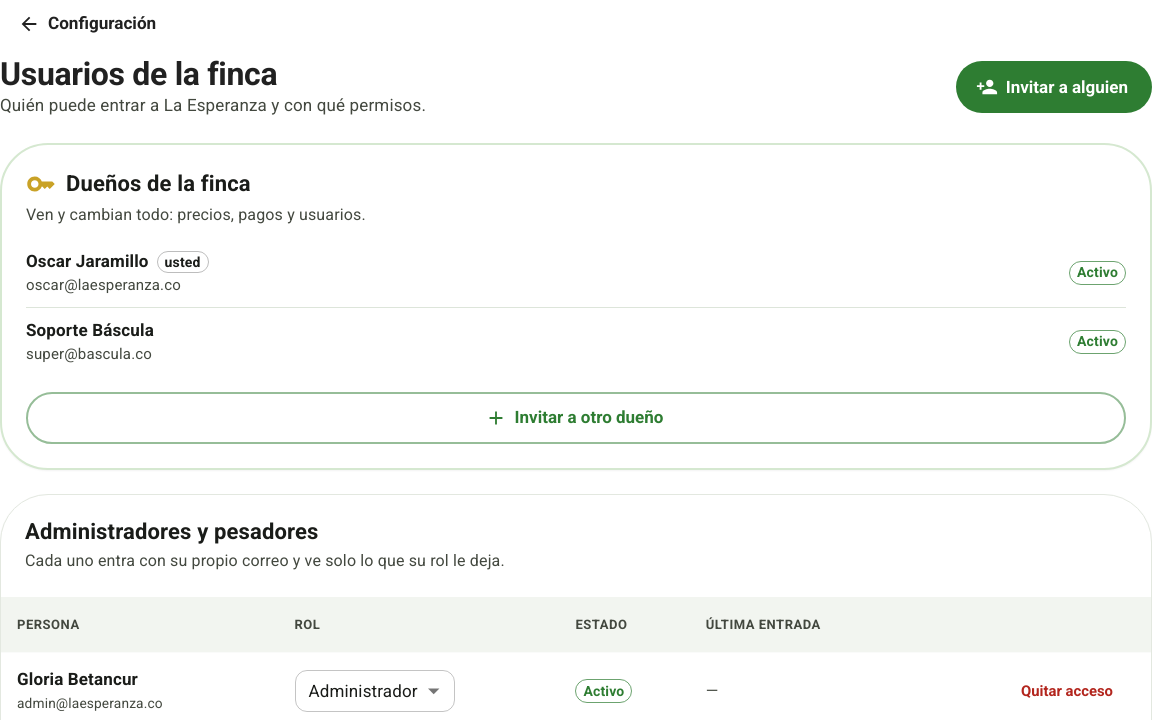
Test: what the server sends back › says something went wrong when the invitation's answer cannot be read
Check: the text "Gloria Betancur" is shown, box x1=17 y1=669 x2=138 y2=689
Click the button "Invitar a alguien". click: (1054, 87)
box: x1=956 y1=61 x2=1151 y2=113
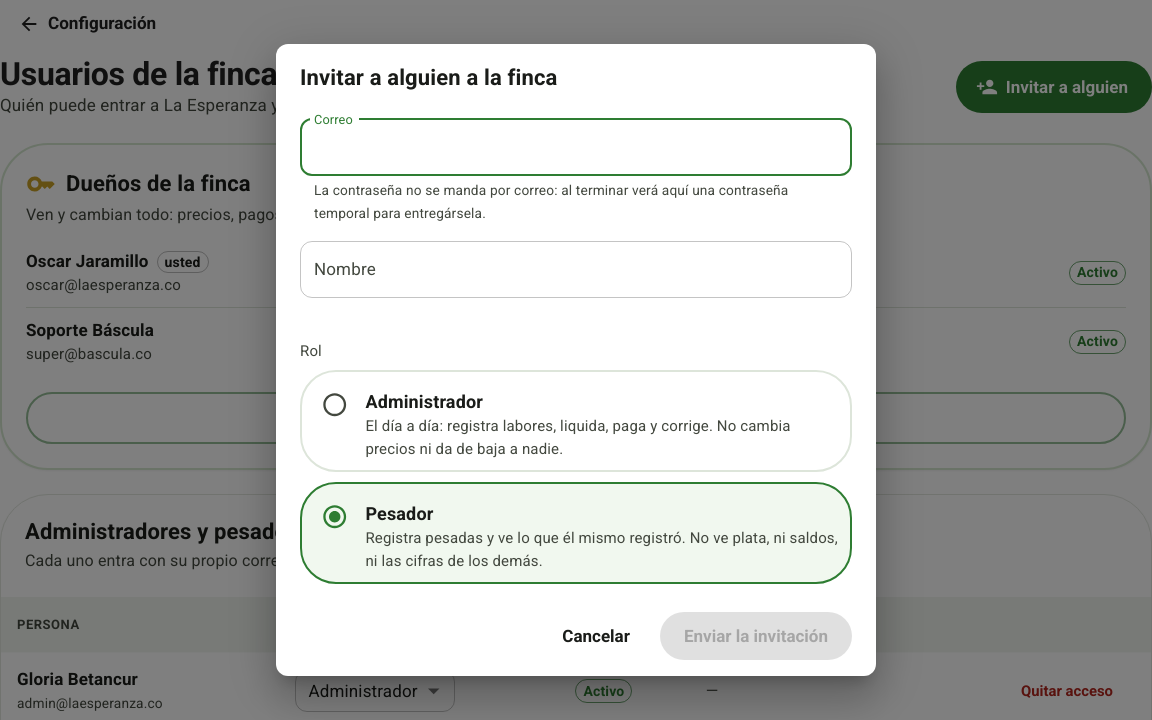
Type "rota@laesperanza.co" into the field labelled "Correo". click: (576, 148)
box: x1=300 y1=119 x2=852 y2=176
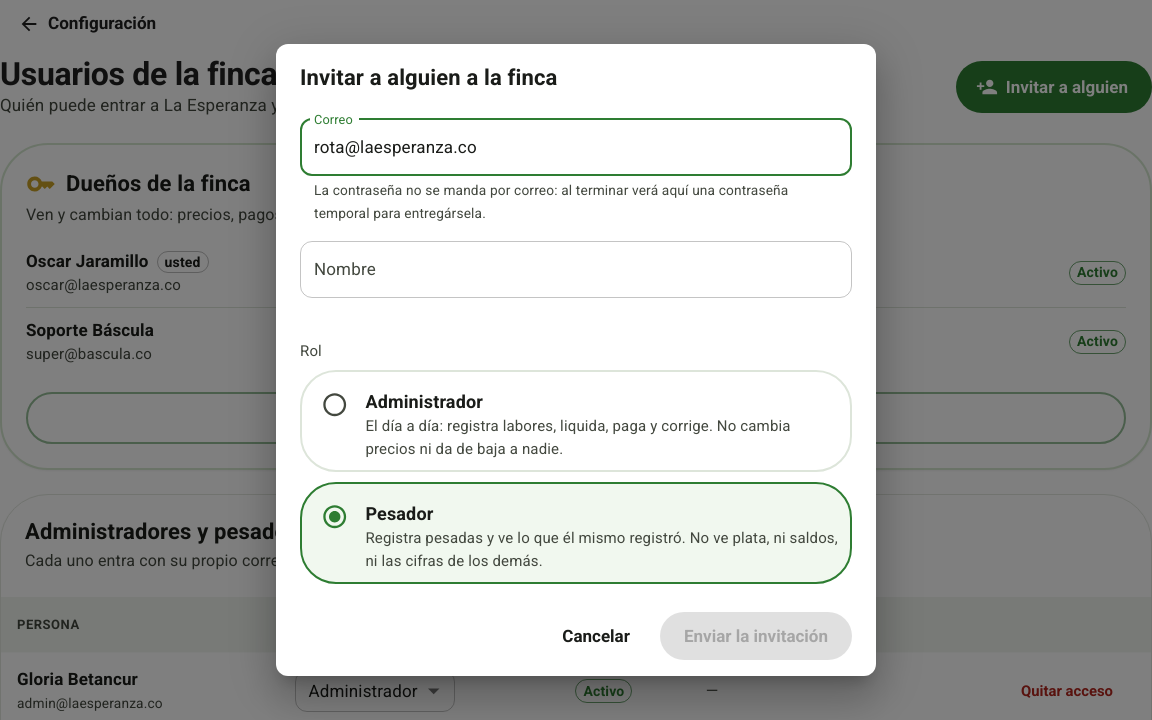
Type "Respuesta Rota" into the field labelled "Nombre". click: (576, 269)
box: x1=300 y1=241 x2=852 y2=298
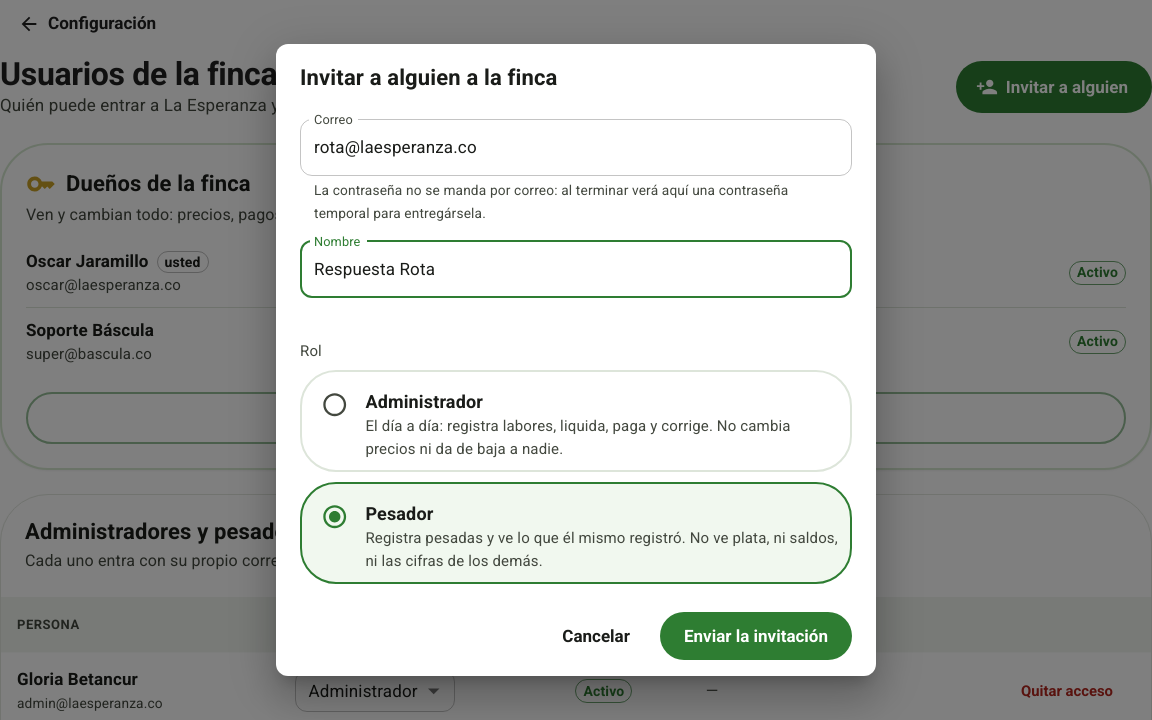
Click the button "Enviar la invitación". click: (756, 636)
box: x1=660 y1=612 x2=852 y2=660
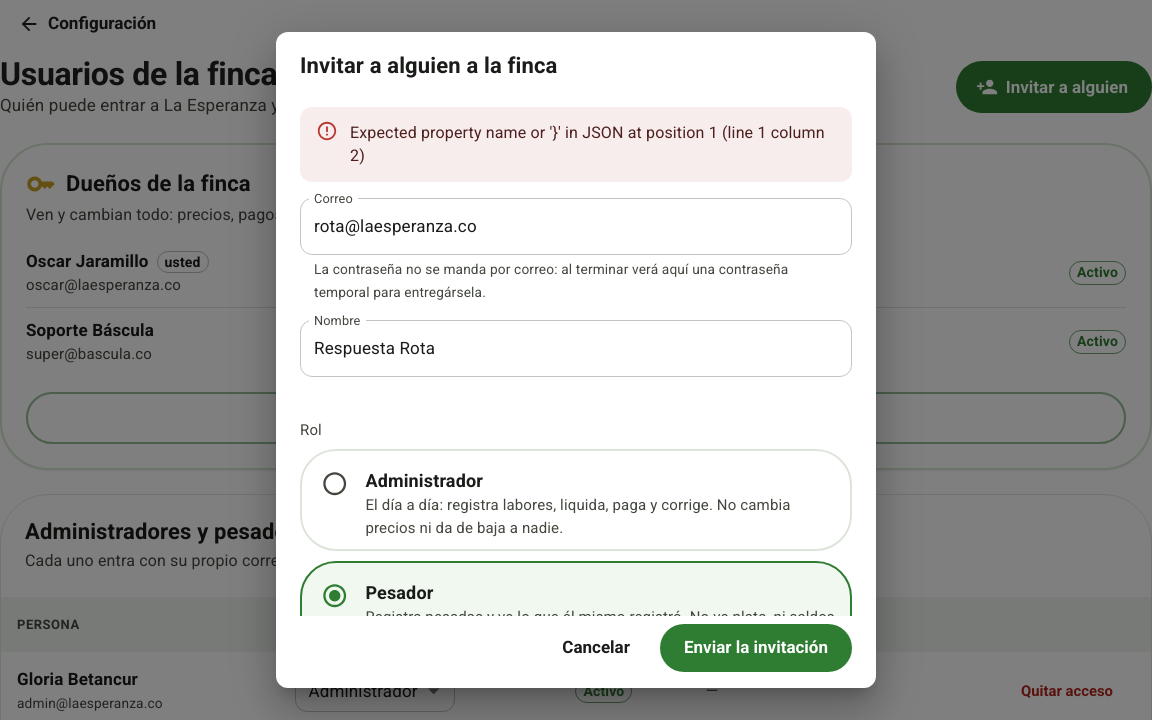
Check: the message "Expected property name or '}' in JSON at position 1 (line 1 column 2)" is shown, box x1=300 y1=107 x2=852 y2=182
